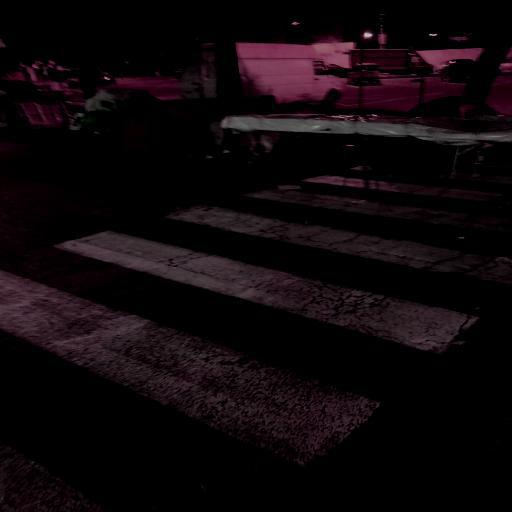crosswalk: (41, 201, 503, 367)
